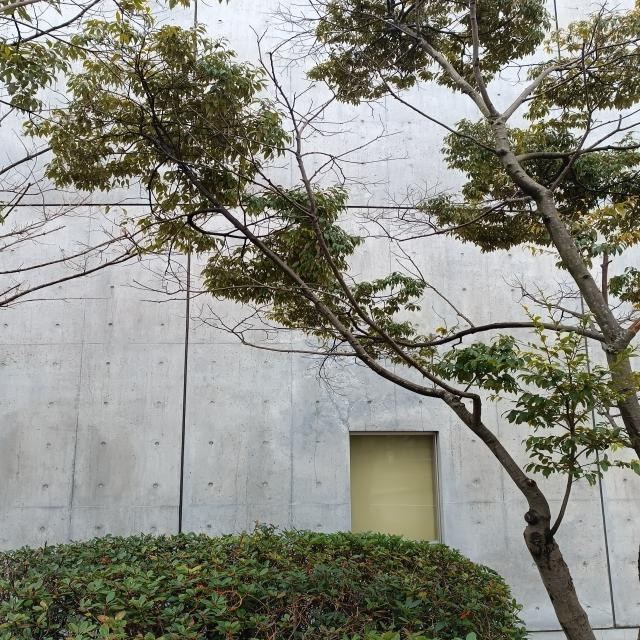Branch: (490, 119, 640, 456), (462, 415, 597, 640)
Twig: (184, 169, 472, 415), (309, 208, 482, 418), (380, 72, 495, 153), (396, 321, 599, 347), (516, 143, 640, 162)
